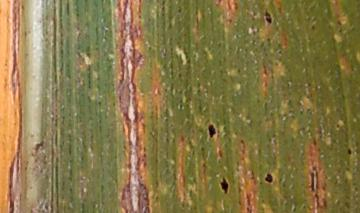tarspot: (310, 165, 319, 192), (219, 175, 230, 196), (262, 8, 274, 25), (207, 123, 216, 140), (312, 192, 321, 208), (263, 172, 274, 184), (345, 147, 353, 156), (334, 122, 342, 130), (309, 23, 316, 30)
